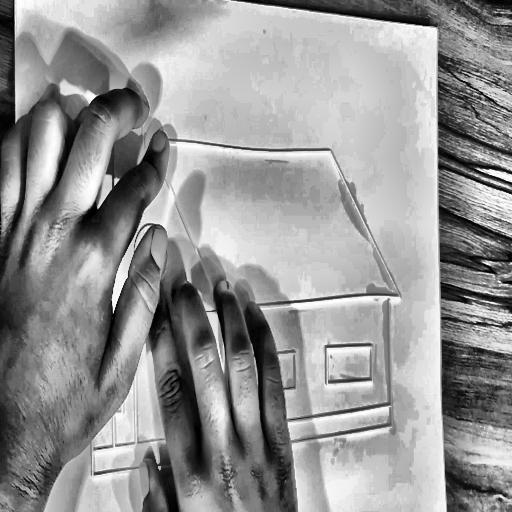house: (64, 78, 416, 498)
top_right: (430, 20, 442, 41)
